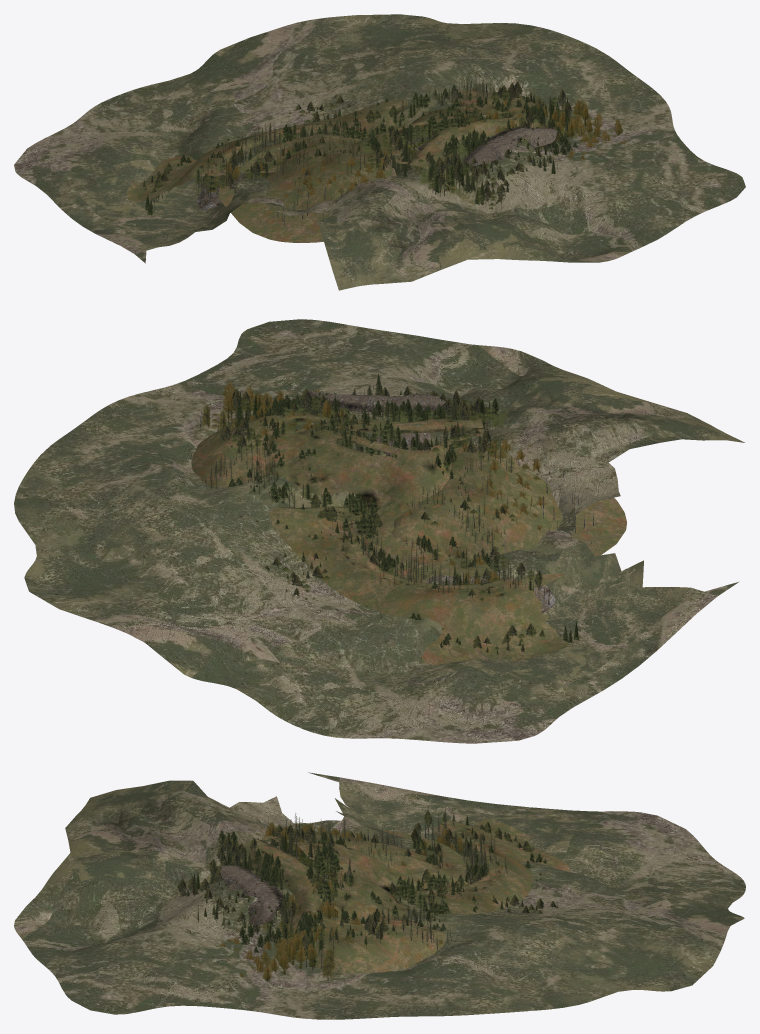
File: forest.opt.glb
3 renders of one model, top to bottom at view 1: azimuth 30°, elevation 25°; view 2: azimuth 150°, elevation 25°; view 3: azimuth 270°, elevation 25°, orthographic. The views are drawn at different scales.
Visible parts, largest first — view 1: Background_Tree_Atlas.020, Background_Tree_Atlas.001, Background_Tree_Atlas.021, Background_Tree_Atlas.019, Background_Tree_Atlas.006; view 2: Background_Tree_Atlas.020, Background_Tree_Atlas.021, Background_Tree_Atlas.001, Background_Tree_Atlas.019, Background_Tree_Atlas.006; view 3: Background_Tree_Atlas.020, Background_Tree_Atlas.021, Background_Tree_Atlas.001, Background_Tree_Atlas.019, Background_Tree_Atlas.006.
Boxes of the visible parts, bbox=[...] form: Background_Tree_Atlas.020: bbox=[14, 14, 745, 290]; Background_Tree_Atlas.001: bbox=[142, 77, 625, 215]; Background_Tree_Atlas.021: bbox=[126, 90, 565, 242]; Background_Tree_Atlas.019: bbox=[196, 126, 557, 209]; Background_Tree_Atlas.006: bbox=[148, 78, 594, 213]; Background_Tree_Atlas.020: bbox=[14, 319, 744, 743]; Background_Tree_Atlas.021: bbox=[191, 412, 626, 664]; Background_Tree_Atlas.001: bbox=[202, 374, 579, 654]; Background_Tree_Atlas.019: bbox=[199, 390, 555, 613]; Background_Tree_Atlas.006: bbox=[200, 385, 565, 649]; Background_Tree_Atlas.020: bbox=[14, 772, 745, 1019]; Background_Tree_Atlas.021: bbox=[200, 818, 570, 973]; Background_Tree_Atlas.001: bbox=[177, 806, 557, 981]; Background_Tree_Atlas.019: bbox=[218, 853, 460, 959]; Background_Tree_Atlas.006: bbox=[183, 812, 507, 980].
Bounding box in the file's own units: 1.63e+07 × 3454527 × 1.8e+07.
Materials: 26 (26 with a texture image).
